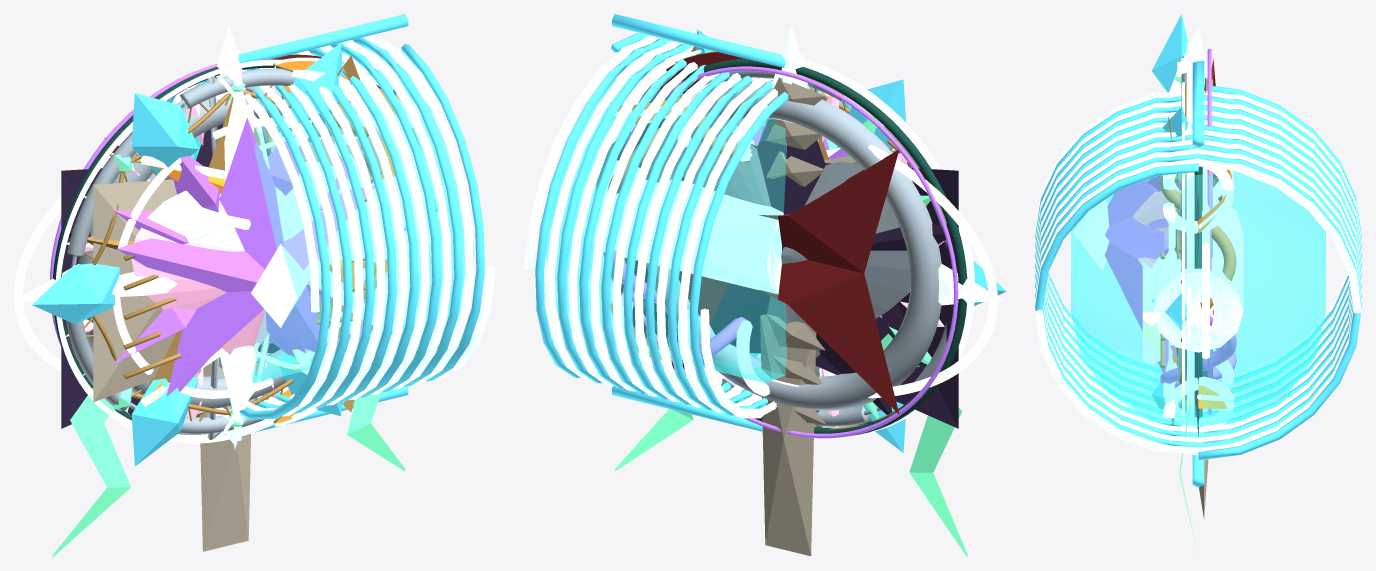
File: player_specials.glb
3 views of the same model, side by side, from view 1: azimuth 30°, elevation 25°; view 2: azimuth 150°, elevation 25°; view 3: azimuth 270°, elevation 25° (orthographic). The views are drawn at different scales.
Parts seen in each view (by area): view 1: Cyan reply volume, Amethyst star, Spiraling cannon envelope.003, Spiraling cannon envelope.001, Spiraling cannon envelope.002, Spiraling cannon envelope, Open ivory page, Pink heart, Penlight grip, Prayer ribbon tail, Reply aperture blade.002, Reply aperture blade.003 (+33 smaller); view 2: Cyan reply volume, Silver iris, Spiraling cannon envelope.002, Spiraling cannon envelope.001, Spiraling cannon envelope.003, Spiraling cannon envelope, Penlight grip, White reply core, Scarlet folded underside, Scarlet folded underside.001, Heart silver setting, Midnight star setting (+26 smaller); view 3: Cyan reply volume, Spiraling cannon envelope, Spiraling cannon envelope.003, Spiraling cannon envelope.001, Spiraling cannon envelope.002, White reply core, Amethyst star, Braided reply filament, Braided reply filament.001, Cutting light, Star bright center, Open stellar orbit (+11 smaller).
Boxes of the visible parts, box(x1,y1,x2,y2) form: Cyan reply volume: box(190, 69, 474, 382); Amethyst star: box(117, 117, 375, 396); Spiraling cannon envelope.003: box(181, 37, 462, 419); Spiraling cannon envelope.001: box(166, 42, 484, 413); Spiraling cannon envelope.002: box(244, 34, 473, 416); Spiraling cannon envelope: box(172, 40, 495, 410); Open ivory page: box(93, 179, 177, 402); Pink heart: box(131, 162, 351, 354); Penlight grip: box(198, 362, 250, 551); Prayer ribbon tail: box(52, 388, 130, 556); Reply aperture blade.002: box(131, 93, 198, 174); Reply aperture blade.003: box(32, 263, 119, 323); Cyan reply volume: box(546, 70, 839, 382); Silver iris: box(646, 85, 941, 410); Spiraling cannon envelope.002: box(524, 36, 840, 418); Spiraling cannon envelope.001: box(557, 33, 839, 415); Spiraling cannon envelope.003: box(535, 38, 851, 410); Spiraling cannon envelope: box(546, 41, 834, 412); Penlight grip: box(760, 314, 816, 556); White reply core: box(593, 160, 783, 294); Scarlet folded underside: box(760, 260, 899, 414); Scarlet folded underside.001: box(759, 150, 899, 273); Heart silver setting: box(683, 130, 910, 357); Midnight star setting: box(641, 119, 950, 414); Cyan reply volume: box(1071, 167, 1325, 427); Spiraling cannon envelope: box(1035, 90, 1361, 455); Spiraling cannon envelope.003: box(1035, 95, 1361, 460); Spiraling cannon envelope.001: box(1035, 86, 1361, 447); Spiraling cannon envelope.002: box(1035, 100, 1361, 442); White reply core: box(1153, 199, 1243, 352); Amethyst star: box(1105, 178, 1168, 372); Braided reply filament: box(1163, 360, 1234, 430); Braided reply filament.001: box(1163, 166, 1233, 233); Cutting light: box(1142, 262, 1160, 364); Star bright center: box(1073, 200, 1109, 271); Open stellar orbit: box(1202, 167, 1209, 358).
Bounding box in the file's own units: 2.42 × 2.84 × 1.74.
